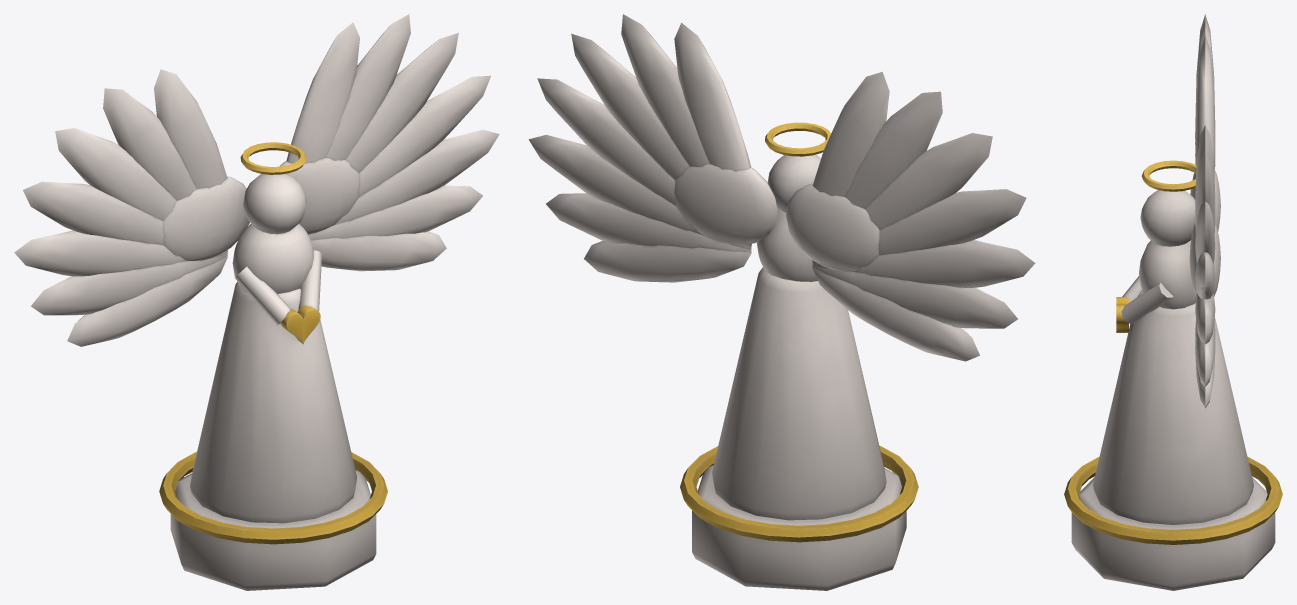
The model's file is hs_angel_statue.fbx.
3 renders of one model, left to right at view 1: azimuth 30°, elevation 25°; view 2: azimuth 150°, elevation 25°; view 3: azimuth 270°, elevation 25°, orthographic. The views are drawn at different scales.
Parts seen in each view (by area): view 1: hs_angel_statue; view 2: hs_angel_statue; view 3: hs_angel_statue.
Part boxes in pixels (<box>): hs_angel_statue: <box>14,14,499,590</box>; hs_angel_statue: <box>528,14,1035,590</box>; hs_angel_statue: <box>1064,14,1282,590</box>.
Bounding box in the file's own units: 4.21 × 4.1 × 1.72.
Materials: 2 (2 with a texture image).
